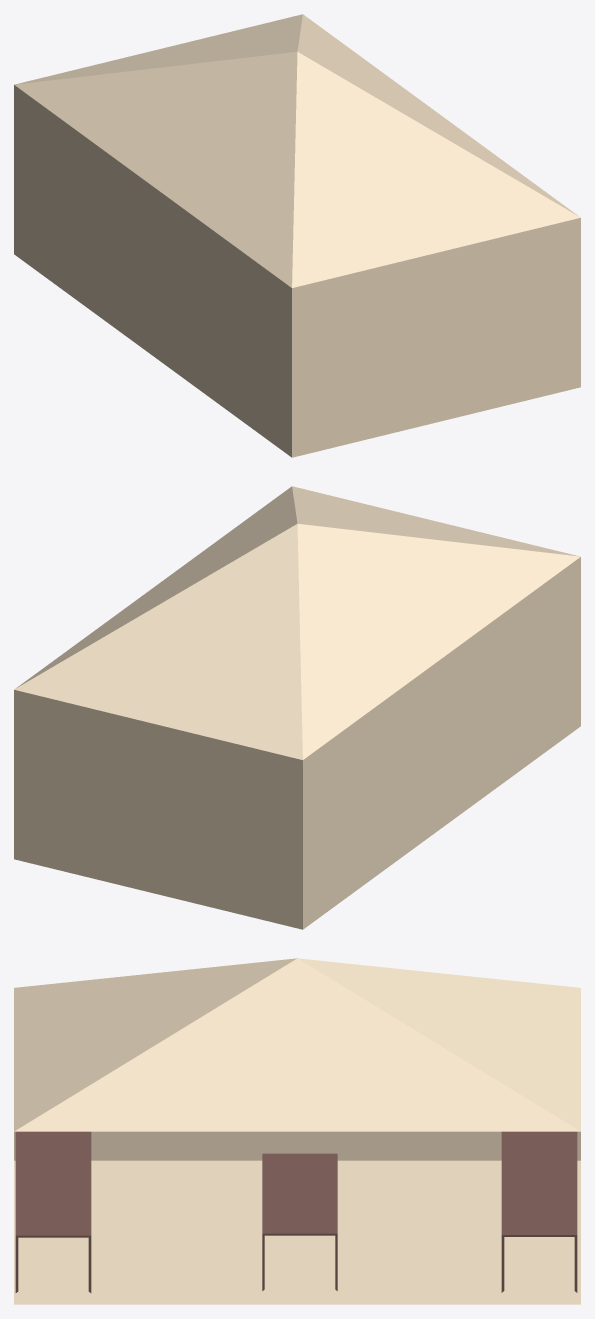
The model's file is puestitobam.glb.
The picture shows the model from 3 angles, top to bottom: view 1: azimuth 30°, elevation 25°; view 2: azimuth 150°, elevation 25°; view 3: azimuth 270°, elevation 25°; orthographic projection.
Parts seen in each view (by area): view 1: Cube; view 2: Cube; view 3: Cube, Cubo, Cubo.001, Cubo.002.
Part boxes in pixels (x1,y1,x2,y2): Cube: [14, 14, 580, 457]; Cube: [14, 486, 580, 929]; Cube: [14, 958, 580, 1304]; Cubo: [15, 1131, 91, 1292]; Cubo.001: [501, 1131, 577, 1292]; Cubo.002: [262, 1153, 337, 1290].
Size of the model in its own units: 9 by 8 by 15.
